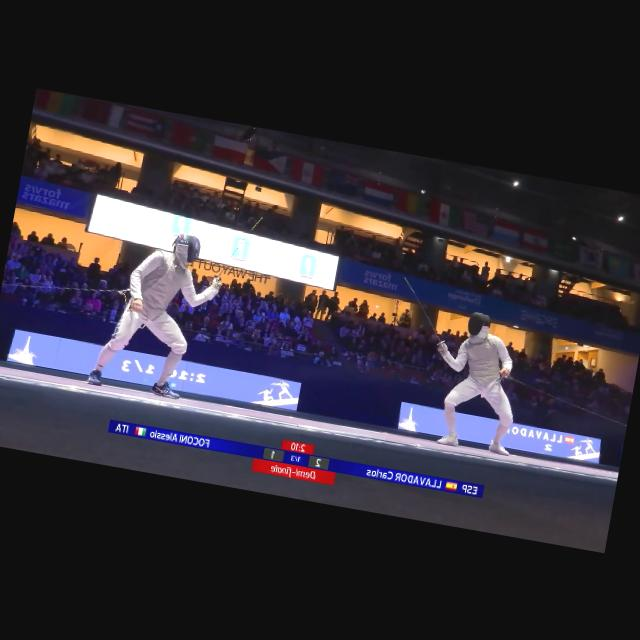blade: (204, 207, 264, 296), (392, 273, 462, 348)
